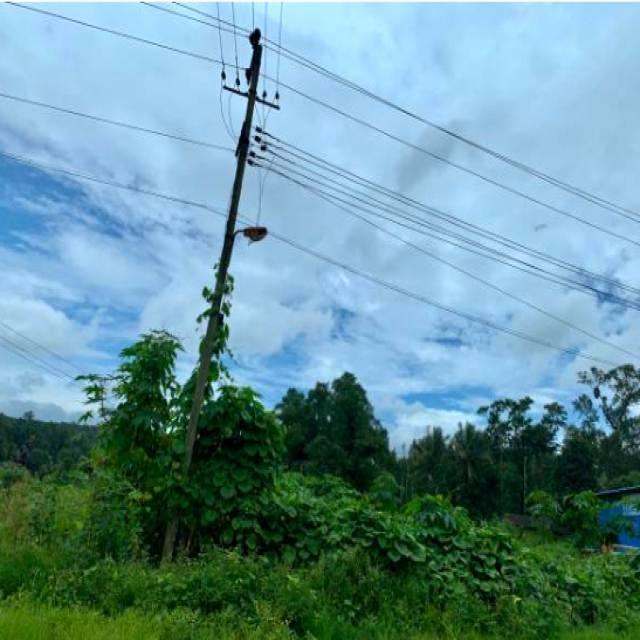critical vegetation: (182, 250, 237, 390)
